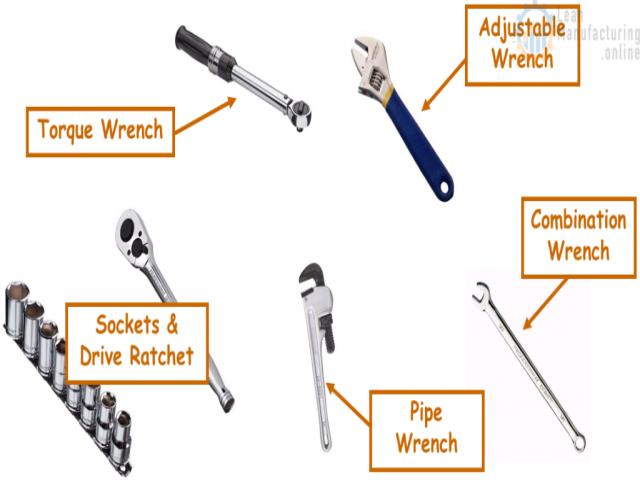Adjustable spanner: (351, 37, 454, 201)
Ratchet: (115, 210, 233, 414), (175, 25, 311, 131)
Wrench: (473, 282, 586, 452)
